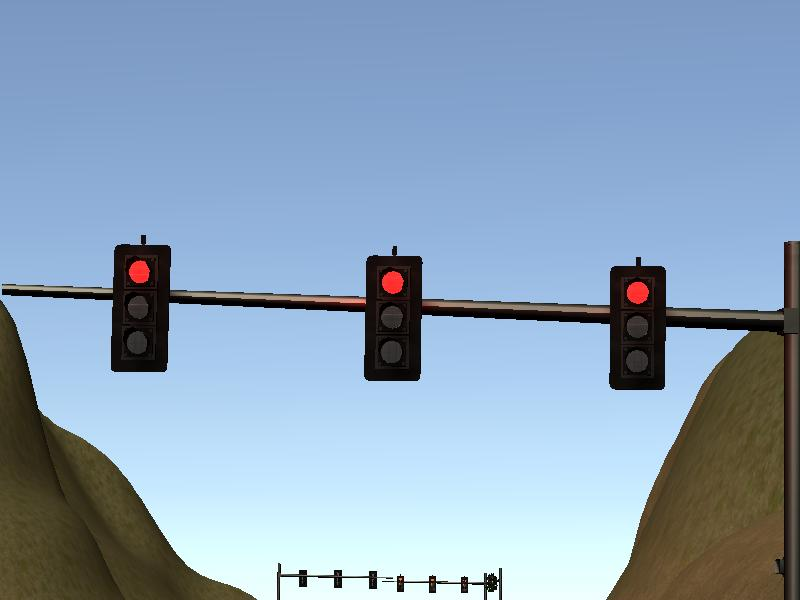red: (112, 241, 169, 373), (364, 254, 421, 386), (609, 262, 666, 394)
